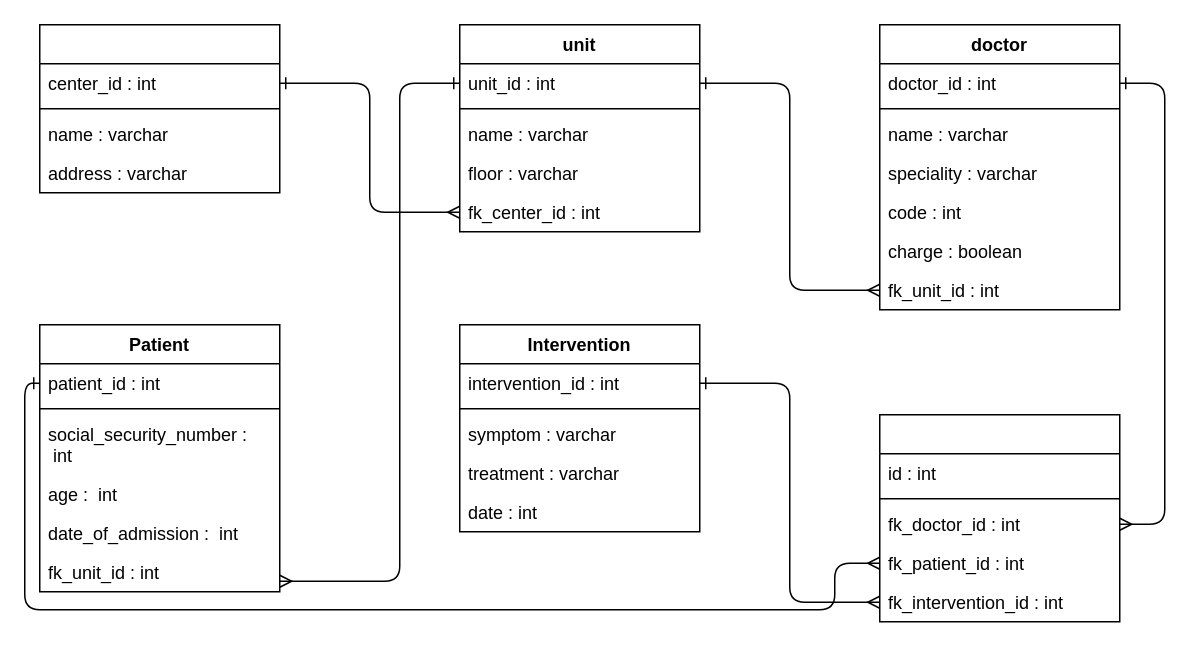
Image size: 1190x647. Some labels were removed from this diagram. The box of each missing label's shape, as (x1, y1, x2, y2) in pixels:
Health_center: (38, 23, 280, 193)
Intervention_report: (878, 413, 1120, 622)
